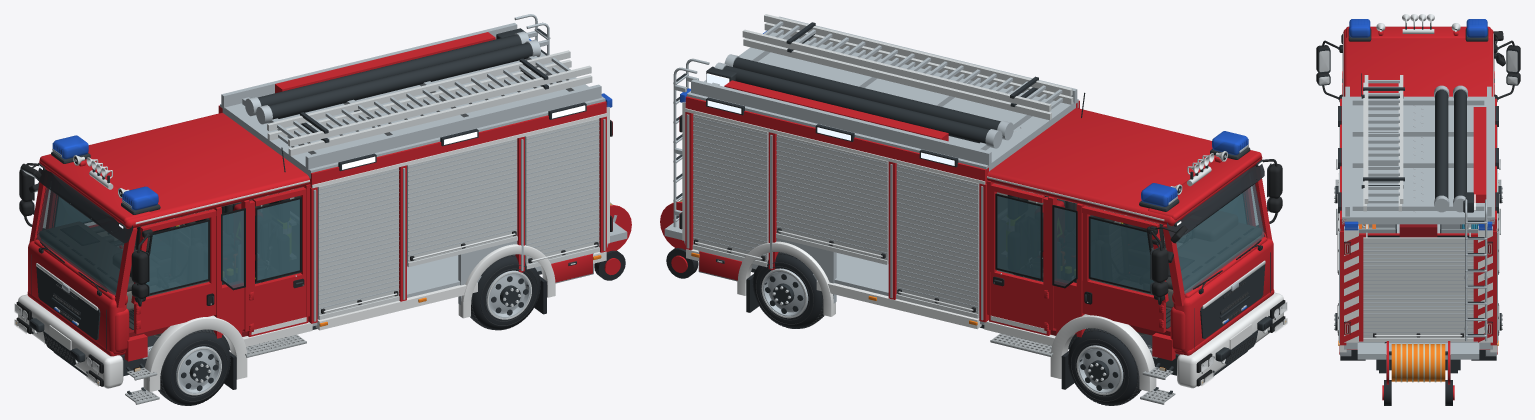
The picture shows the model from 3 angles, left to right: view 1: azimuth 30°, elevation 25°; view 2: azimuth 150°, elevation 25°; view 3: azimuth 270°, elevation 25°; orthographic projection. The views are drawn at different scales.
Parts seen in each view (by area): view 1: static, shell, shutter_left2, shutter_left1, shutter_left3, door_front_left, door_crew_left, door_front_right; view 2: static, shell, shutter_right2, shutter_right1, shutter_right3, door_front_right, door_crew_right, door_front_left; view 3: static, shutter_rear, shell, door_front_right, door_front_left.
Boxes of the visible parts, x1,y1,x2,y2 form: static: (39,14,631,405); shell: (14,113,310,404); shutter_left2: (407,138,517,266); shutter_left1: (317,167,399,319); shutter_left3: (525,118,599,269); door_front_left: (131,209,216,334); door_crew_left: (247,187,308,336); door_front_right: (19,162,117,241); static: (660,14,1261,405); shell: (986,92,1287,404); shutter_right2: (776,134,888,264); shutter_right1: (896,163,979,318); shutter_right3: (692,114,768,267); door_front_right: (1082,206,1187,332); door_crew_right: (989,183,1050,335); door_front_left: (1182,159,1282,237); static: (1334,75,1502,405); shutter_rear: (1363,237,1473,341); shell: (1335,14,1501,234); door_front_right: (1493,31,1520,101); door_front_left: (1316,40,1342,101).
Size of the model in its own units: 8.66 by 3.45 by 3.26.
